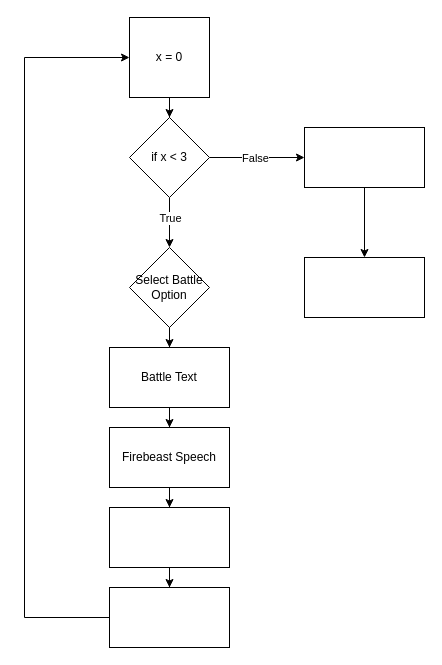
The diagram is 442 pixels wide and 665 high, and some of its shapes have lost their labels. The shapes that lost their labels are listed below. From the top down, each one's centre as x and y in pixels, then its label:
At point 364,157: "destroy obattle instance".
At point 169,537: "Firebeast attack".
At point 169,617: "x = x + 1".
